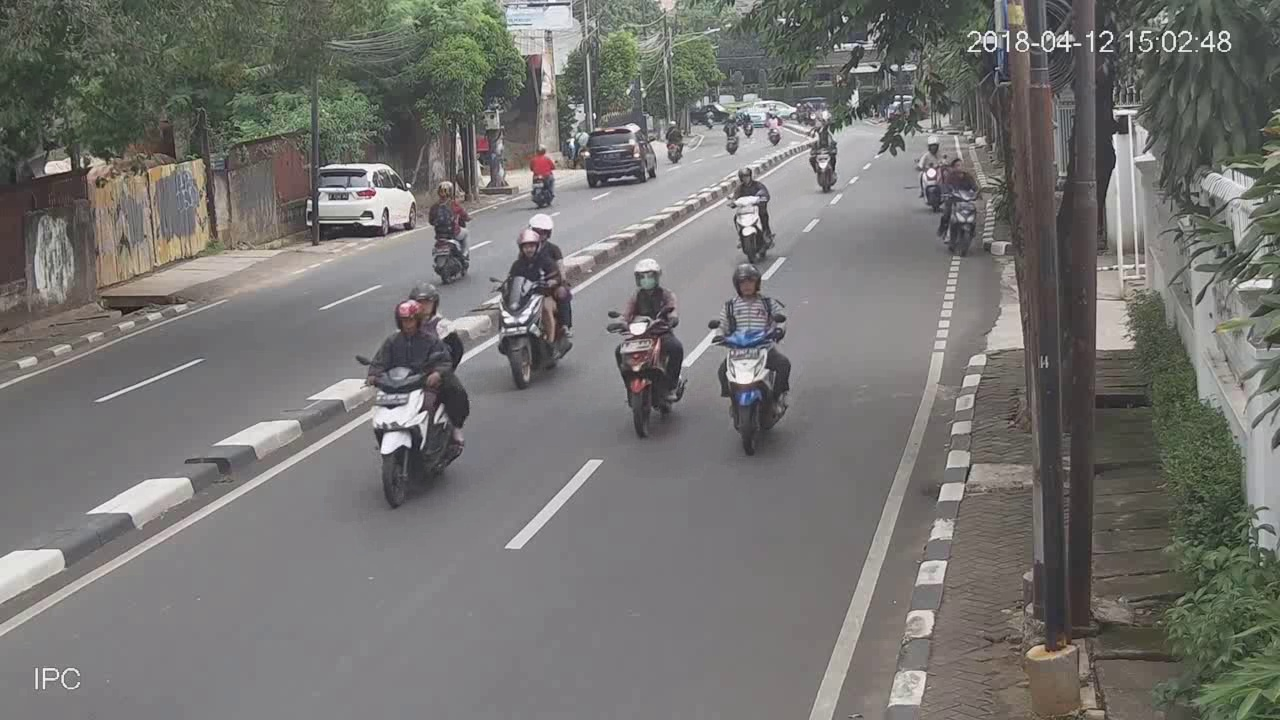car: (307, 155, 420, 234), (582, 120, 658, 188)
motorcycle: (355, 280, 473, 507), (478, 212, 577, 388), (708, 264, 792, 453), (608, 257, 691, 437), (423, 176, 474, 282), (727, 164, 777, 261), (937, 151, 981, 258), (803, 120, 843, 197), (526, 145, 560, 209), (917, 131, 941, 209)
